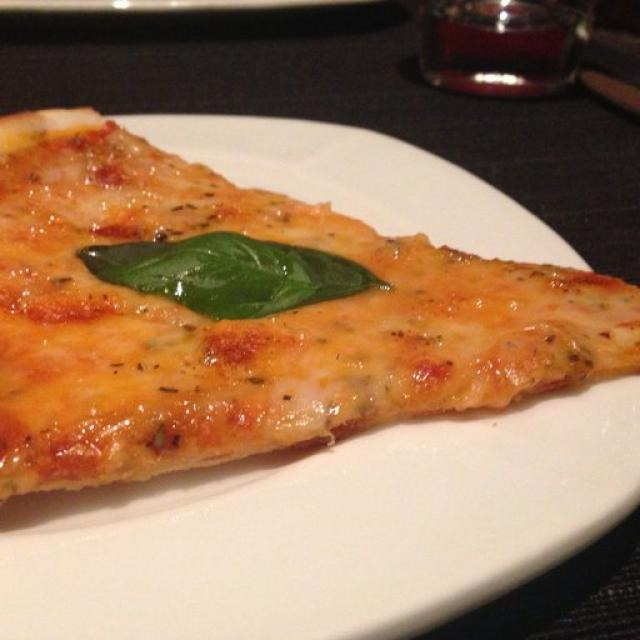Basil: (68, 232, 390, 312)
Pizza: (0, 107, 640, 505)
